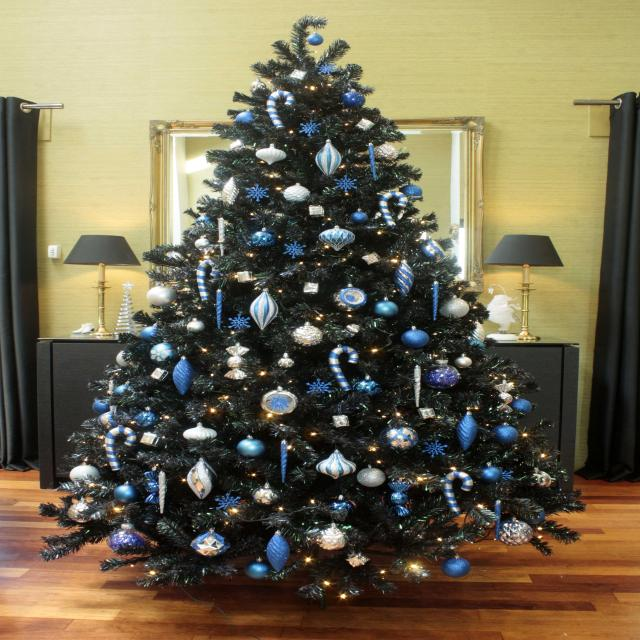Christmas-tree: (97, 19, 564, 559)
